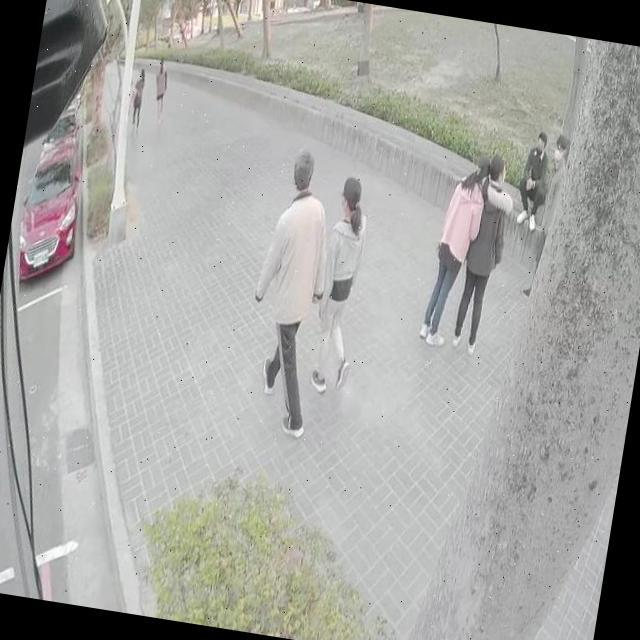person: (234, 145, 345, 438), (310, 176, 378, 395), (421, 150, 490, 346), (453, 150, 520, 350), (530, 136, 572, 282), (516, 133, 554, 224), (150, 56, 172, 122), (130, 66, 150, 130)
